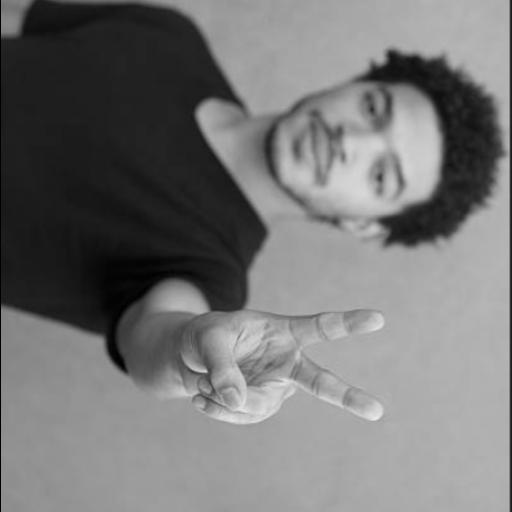Peace: (78, 254, 414, 450)
